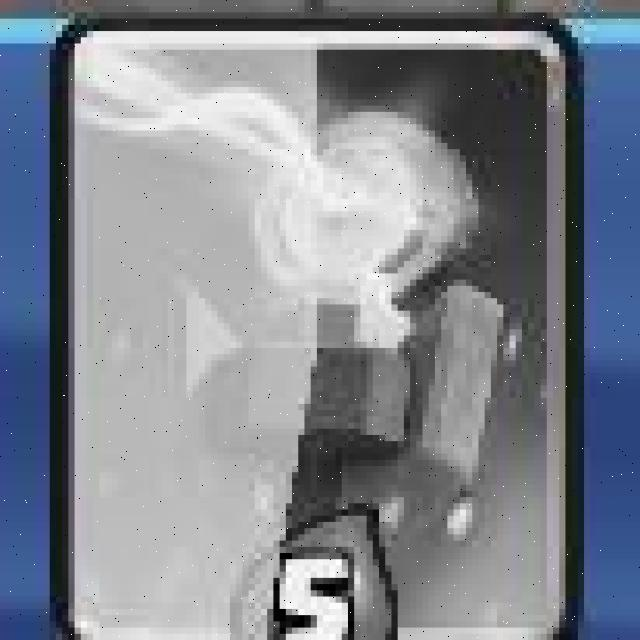Inferno_Tower: (58, 25, 581, 640)
